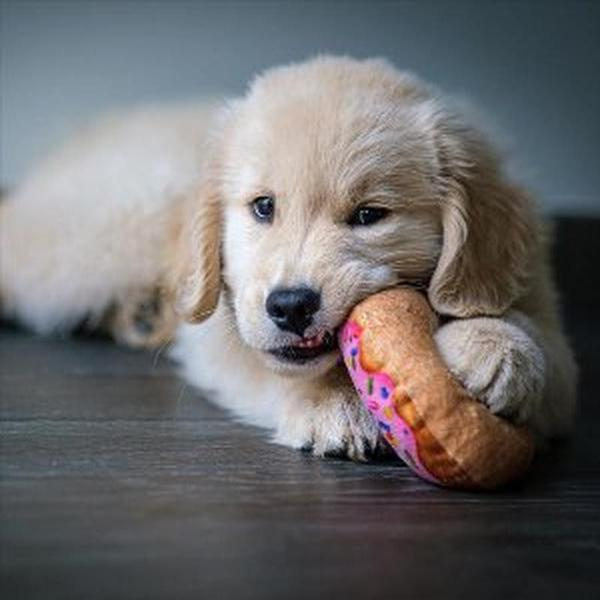allqu: (8, 39, 584, 510)
